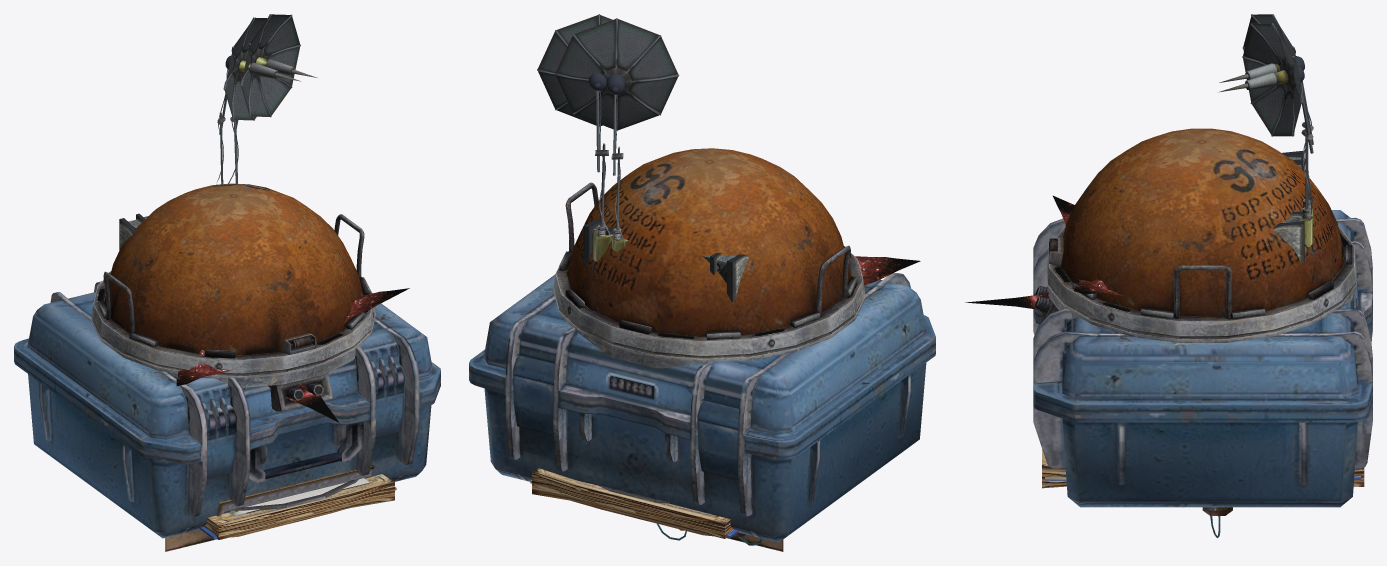
The model's file is SCOP Quest Items.fbx.
3 views of the same model, side by side, from view 1: azimuth 30°, elevation 25°; view 2: azimuth 150°, elevation 25°; view 3: azimuth 270°, elevation 25° (orthographic). The views are drawn at different scales.
Visible parts, largest first — view 1: safe_container, box_black, scanner_anomaly, notes_document_case_1, scanner_artefact, anomaly_plant, notes_document_case_2, notes_writing_book_2, explosive_charge; view 2: safe_container, box_black, scanner_artefact, scanner_anomaly, notes_document_case_1, anomaly_plant, explosive_charge; view 3: safe_container, box_black, scanner_anomaly, scanner_artefact, anomaly_plant, notes_document_case_1.
Boxes of the visible parts, <box> form: safe_container: <box>14,281,440,538</box>; box_black: <box>91,183,376,510</box>; scanner_anomaly: <box>119,14,317,250</box>; notes_document_case_1: <box>204,473,394,539</box>; scanner_artefact: <box>136,17,300,222</box>; anomaly_plant: <box>176,288,409,422</box>; notes_document_case_2: <box>216,465,374,516</box>; notes_writing_book_2: <box>230,478,370,516</box>; explosive_charge: <box>165,529,216,551</box>; safe_container: <box>469,273,935,542</box>; box_black: <box>553,148,865,503</box>; scanner_artefact: <box>554,18,721,274</box>; scanner_anomaly: <box>537,14,748,302</box>; notes_document_case_1: <box>532,467,733,538</box>; anomaly_plant: <box>849,256,920,285</box>; explosive_charge: <box>657,523,783,551</box>; safe_container: <box>1033,210,1372,507</box>; box_black: <box>1034,128,1356,342</box>; scanner_anomaly: <box>1219,23,1313,264</box>; scanner_artefact: <box>1219,14,1313,219</box>; anomaly_plant: <box>965,195,1122,309</box>; notes_document_case_1: <box>1042,449,1364,488</box>.
Bounding box in the file's own units: 57.48 × 89.78 × 62.05.
